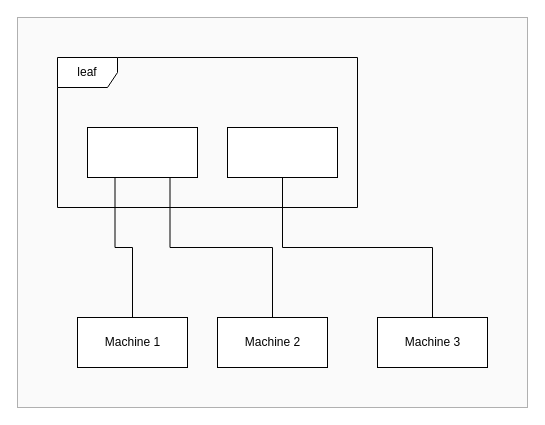
Some shapes in this 545 by 425 pixel diagram are drawn without their labels. The shapes that lost their labels are listed below. From the top down, each one's centre as x and y in pixels, then its label:
the point at 142,152: VRF 1
the point at 282,152: VRF 2
